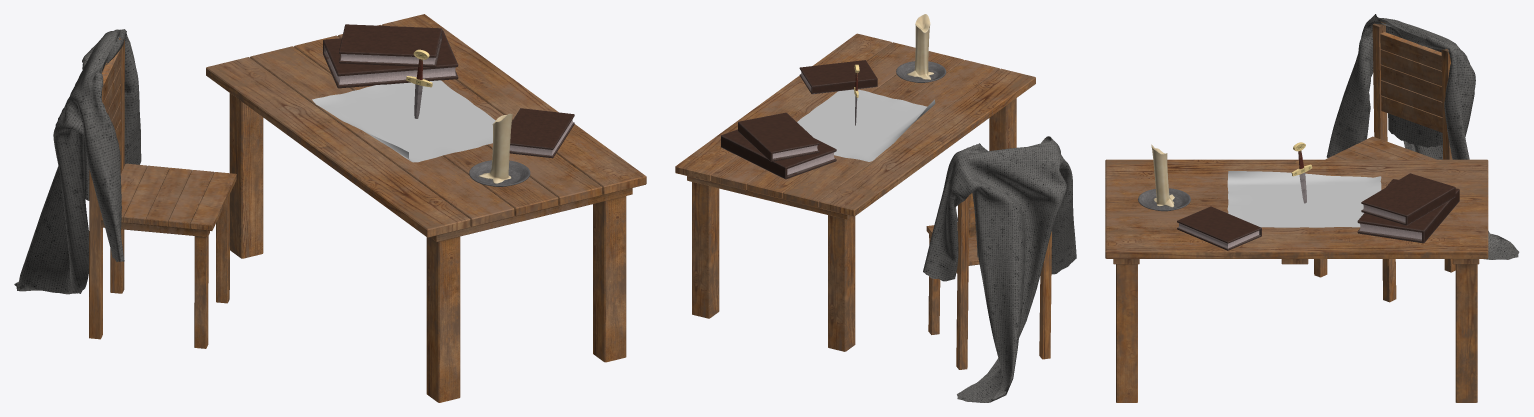
File: Study Setup.fbx
The picture shows the model from 3 angles, left to right: view 1: azimuth 30°, elevation 25°; view 2: azimuth 150°, elevation 25°; view 3: azimuth 270°, elevation 25°; orthographic projection. The views are drawn at different scales.
Visible parts, largest first — view 1: Study_Setup2, Chainmail2; view 2: Study_Setup2, Chainmail2; view 3: Study_Setup2, Chainmail2.
Boxes of the visible parts, x1,y1,x2,y2 form: Study_Setup2: [206, 14, 646, 402]; Chainmail2: [14, 29, 236, 348]; Study_Setup2: [675, 14, 1035, 351]; Chainmail2: [923, 136, 1076, 402]; Study_Setup2: [1105, 142, 1488, 402]; Chainmail2: [1314, 14, 1519, 302].
Bounding box in the file's own units: 191 × 117 × 189.
